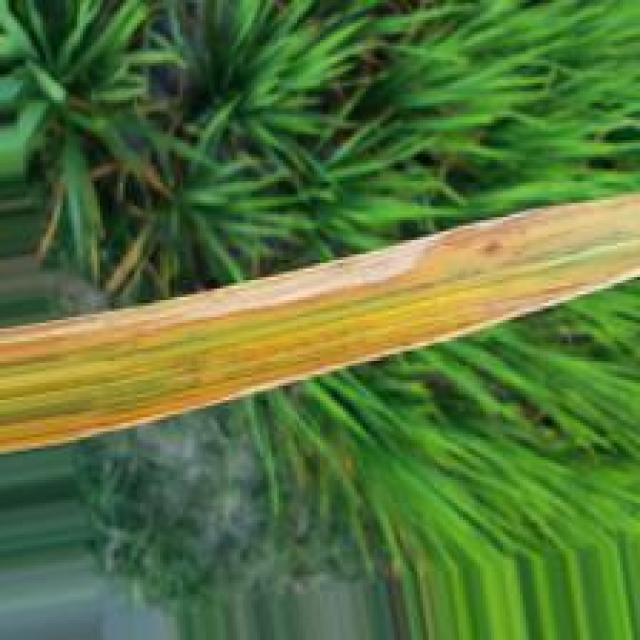Bacterial_Leaf_Blight: (5, 268, 638, 452), (0, 190, 640, 339)
